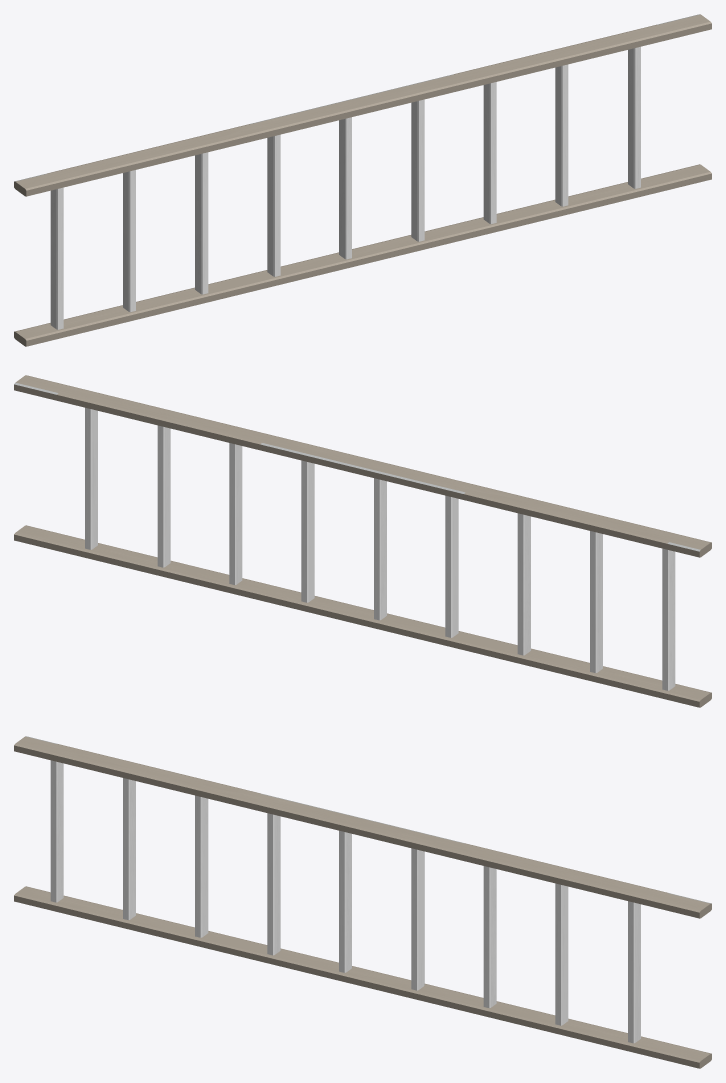
File: Ladder.fbx
3 renders of one model, top to bottom at view 1: azimuth 30°, elevation 25°; view 2: azimuth 150°, elevation 25°; view 3: azimuth 330°, elevation 25°, orthographic.
Parts seen in each view (by area): view 1: Ladder; view 2: Ladder; view 3: Ladder.
Part boxes in pixels (<box>): Ladder: <box>14,14,711,346</box>; Ladder: <box>14,375,711,707</box>; Ladder: <box>14,736,711,1068</box>.
Size of the model in its own units: 190 by 41.77 by 6.
